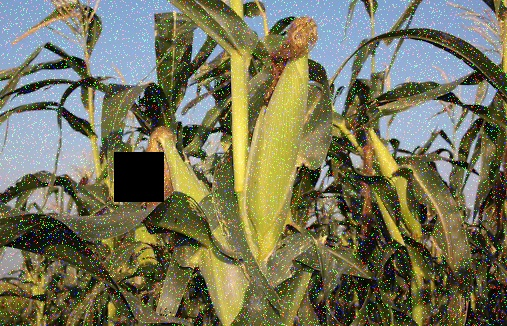corn_plant: (140, 124, 249, 326), (244, 12, 321, 259)
